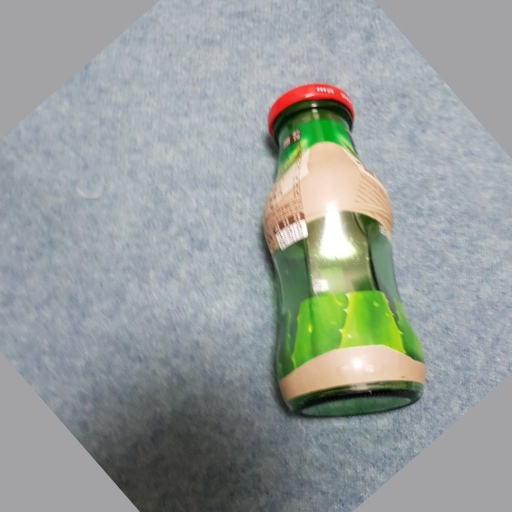Glass_4: (260, 83, 426, 420)
